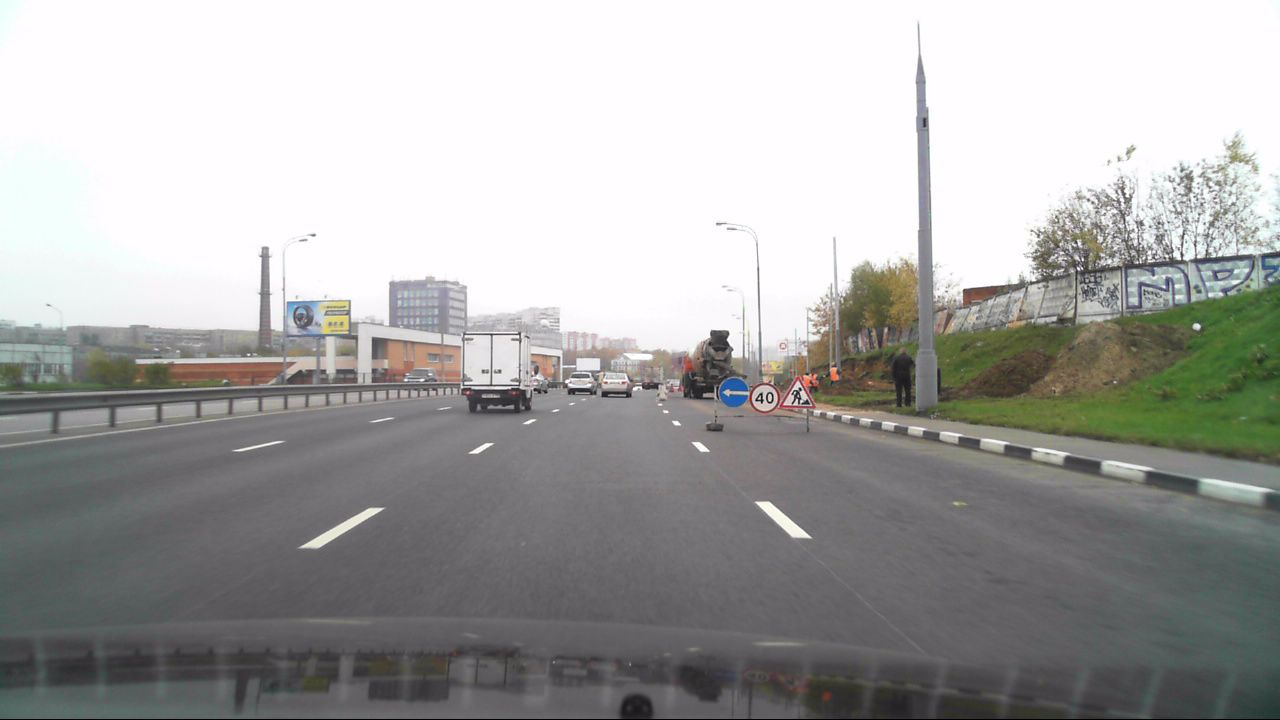Turn Left: (719, 377, 749, 407)
speed_warning_40: (749, 382, 780, 412)
